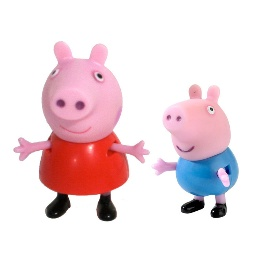Peppa: (10, 41, 153, 223)
